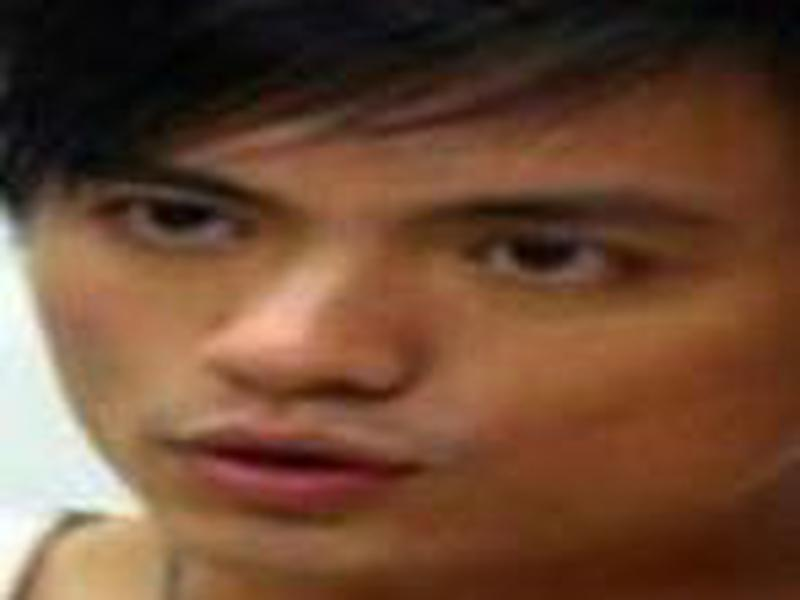without_mask: (27, 42, 800, 580)
